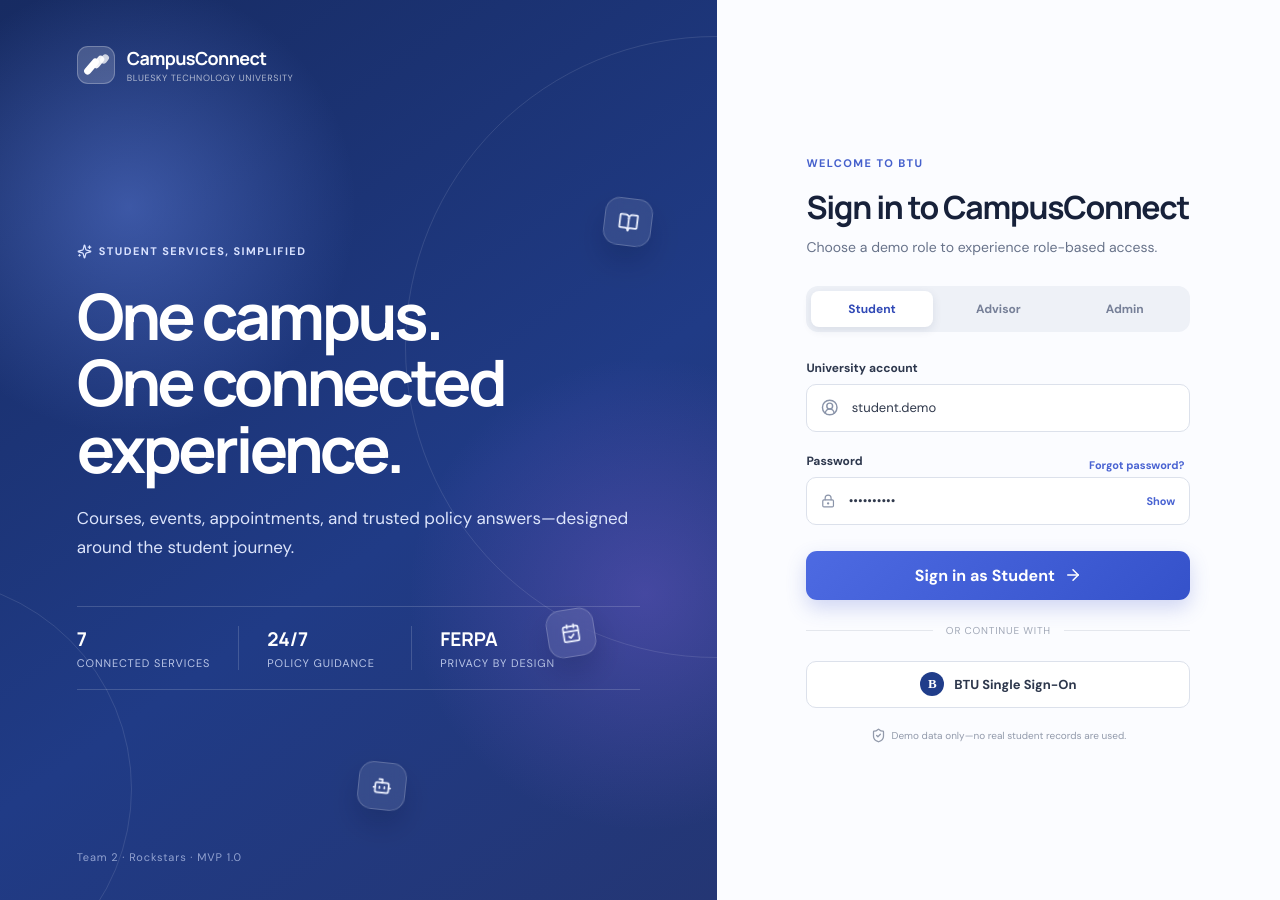
Test: CampusConnect MVP › grounds a resume privacy answer in the FERPA policy source
The image size is (1280, 900).
What coordinates should you click on to do the following:
click the button "Sign in as Student"
I would click on:
 (998, 575)
Its box is top-left (806, 550), bottom-right (1190, 600).
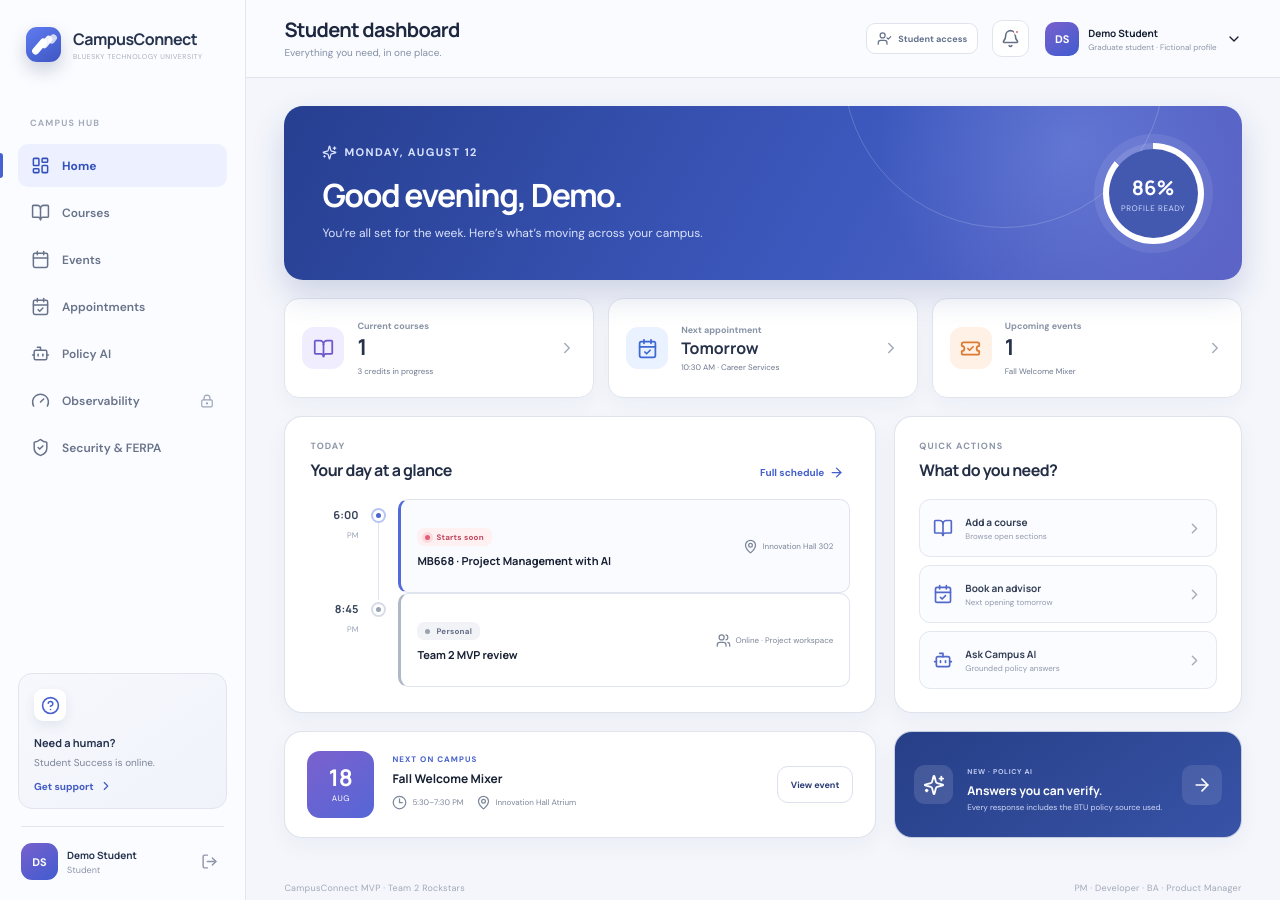
What coordinates should you click on to do the following:
click the button "Policy AI"
I would click on:
 (122, 354)
Its box is top-left (18, 332), bottom-right (227, 375).
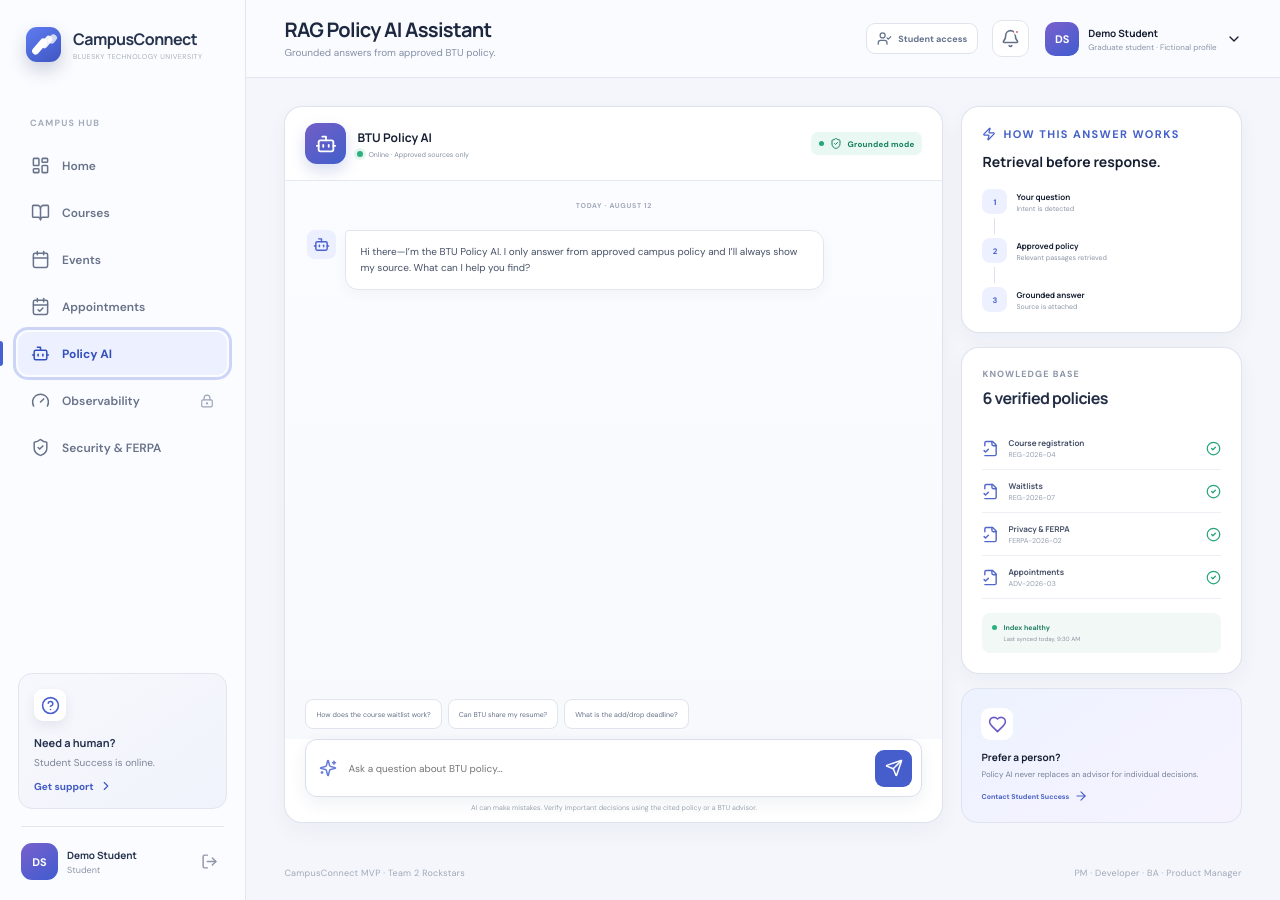
What coordinates should you click on to do the following:
click the button "Can BTU share my resume?"
I would click on:
 (503, 714)
Its box is top-left (448, 699), bottom-right (558, 729).
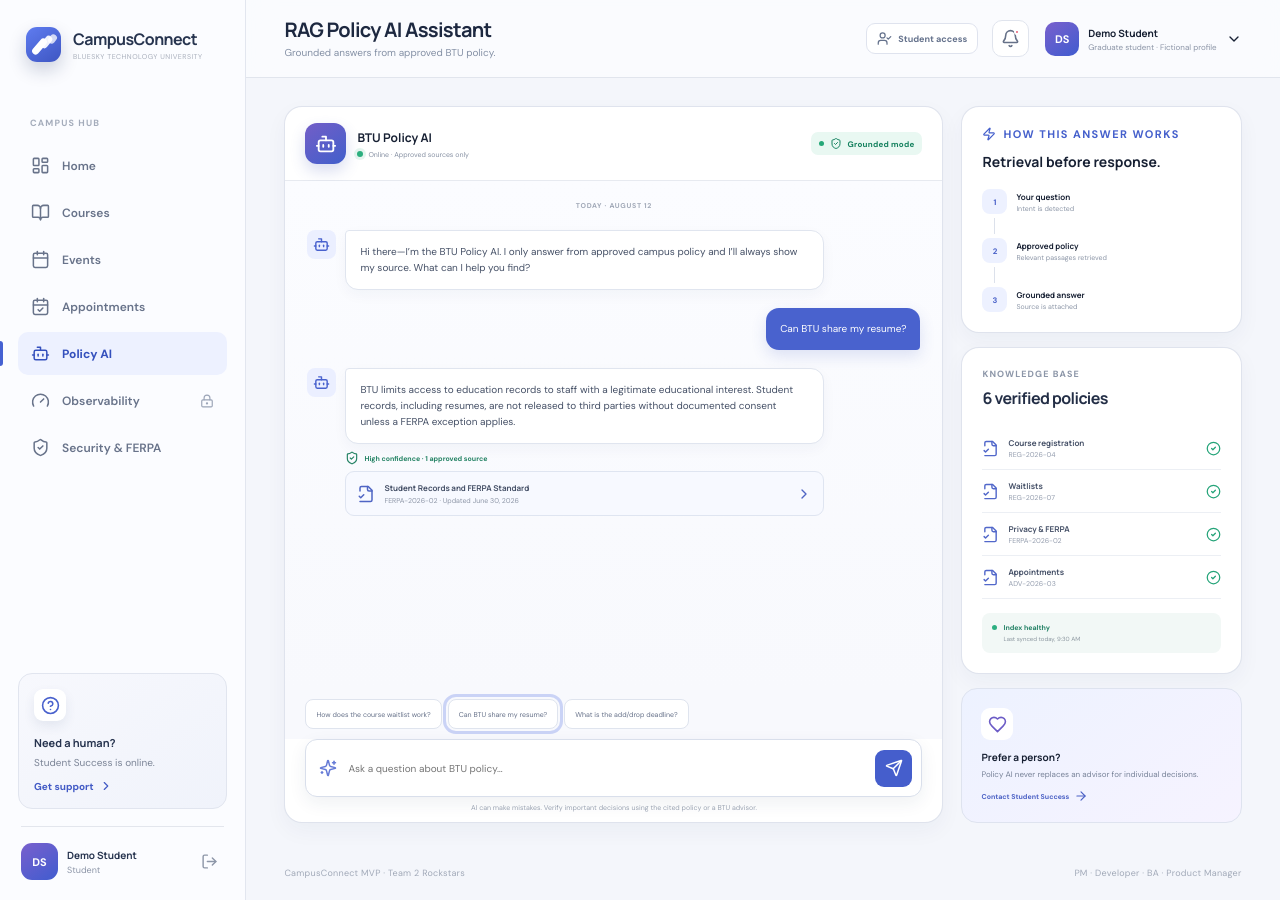
expect the text "Student Records and FERPA Standard" is shown: met, box top-left (384, 482), bottom-right (529, 493)
expect the text "not released to third parties without documented consent" is shown: met, box top-left (360, 383), bottom-right (793, 428)
